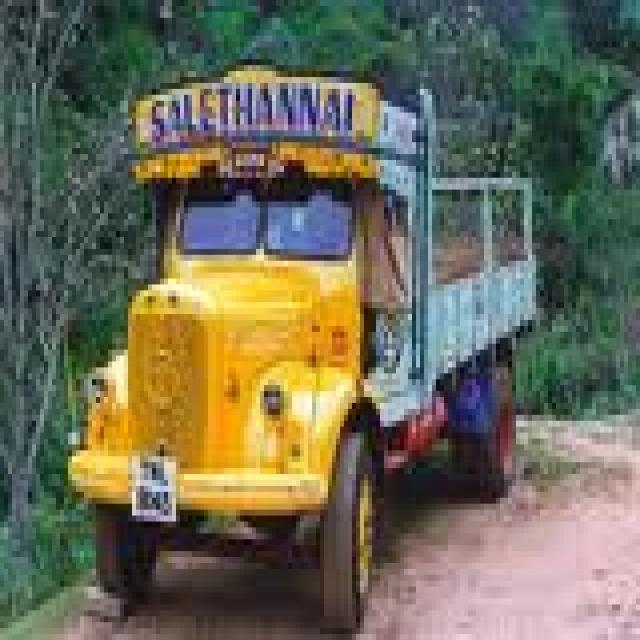truck_front: (66, 55, 542, 640)
